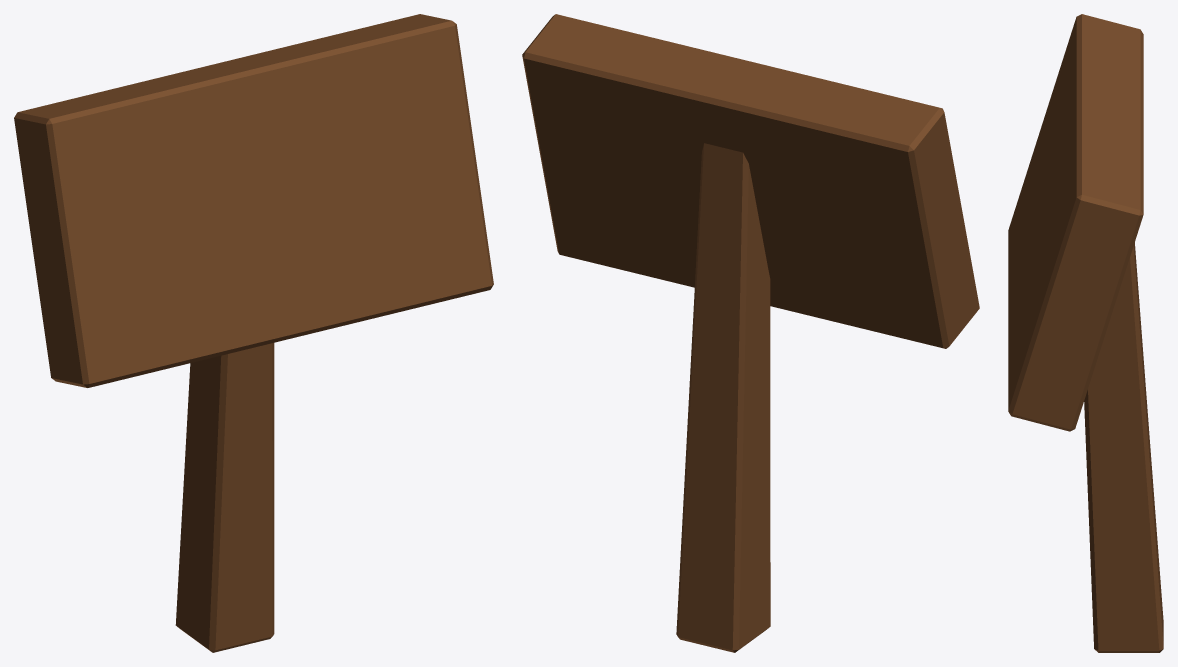
Rendered from sign.001.glb.
3 renders of one model, left to right at view 1: azimuth 30°, elevation 25°; view 2: azimuth 150°, elevation 25°; view 3: azimuth 270°, elevation 25°, orthographic. The views are drawn at different scales.
Visible parts, largest first — view 1: sign.001; view 2: sign.001; view 3: sign.001.
Part boxes in pixels (x1,y1,x2,y2): sign.001: (14,14,493,652); sign.001: (522,14,979,652); sign.001: (1008,14,1163,652).
Size of the model in its own units: 5 by 6.78 by 1.78.
